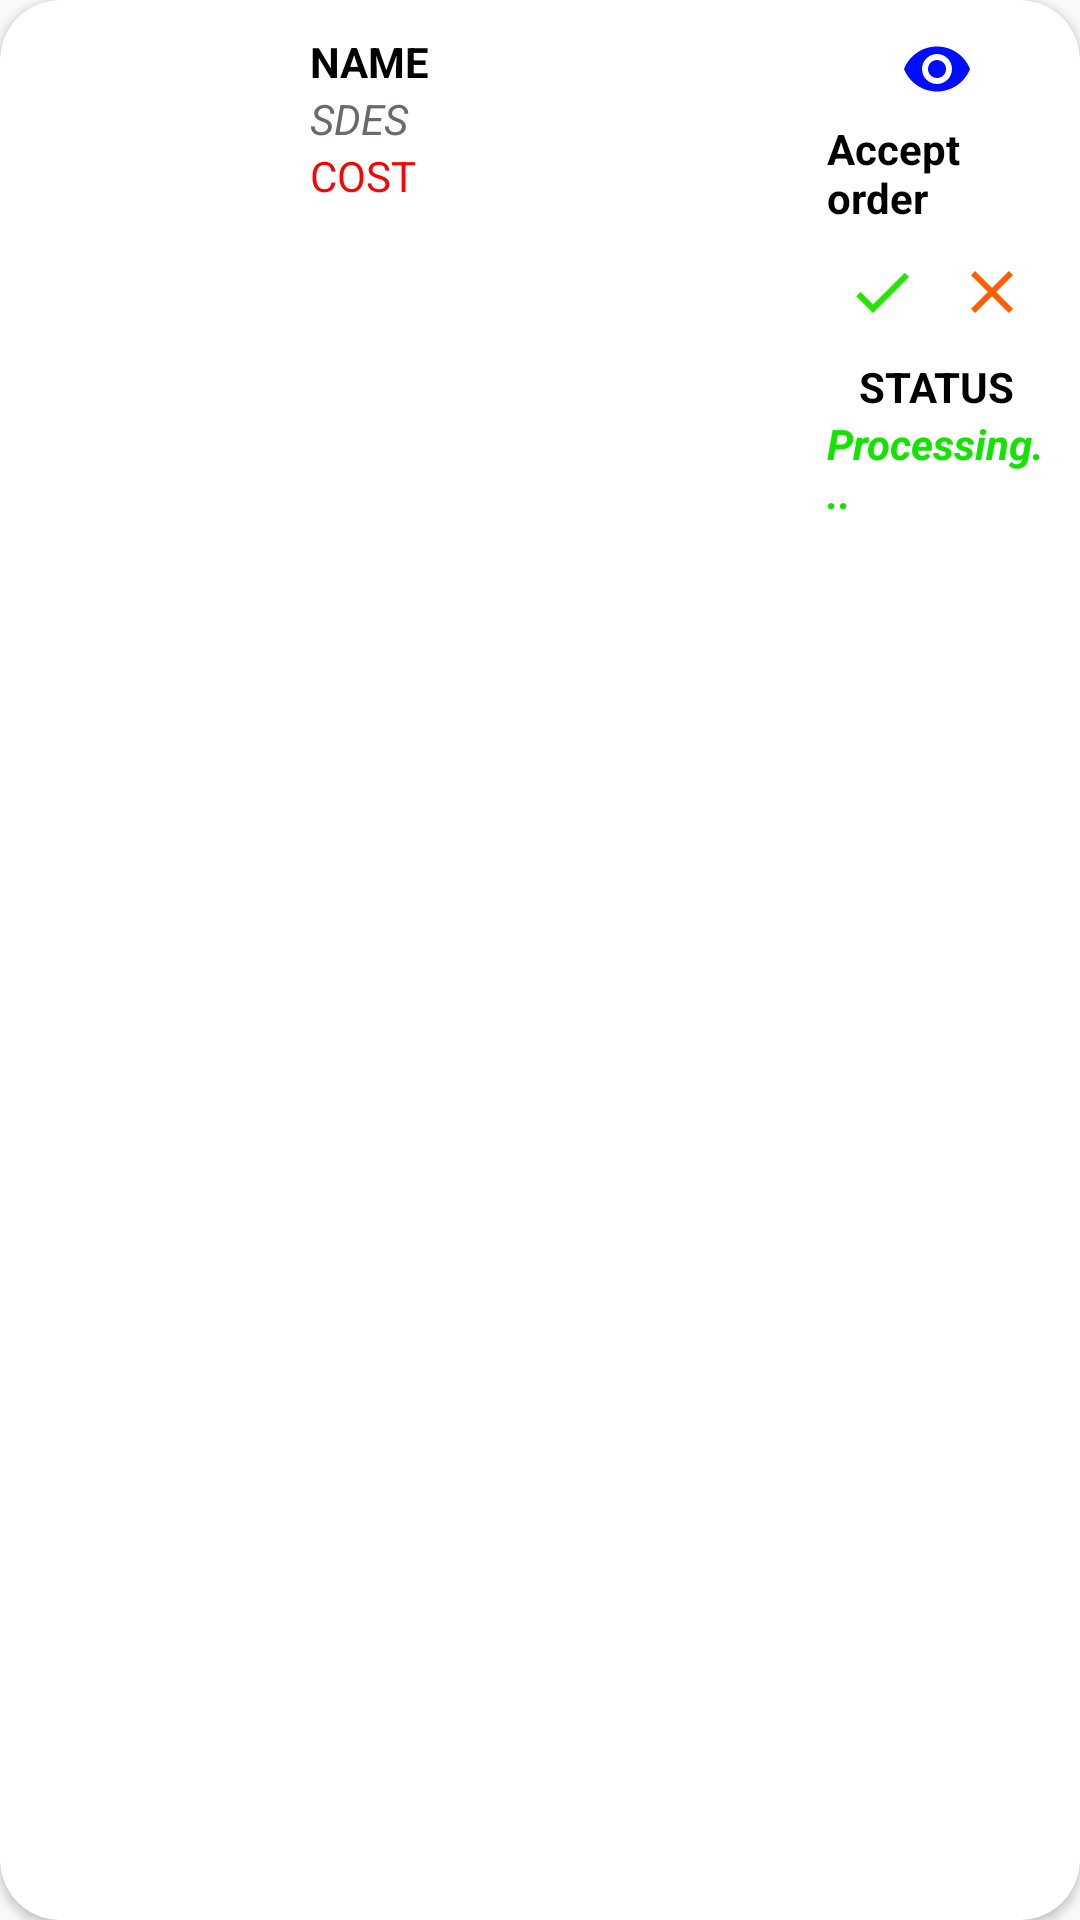

Icons on this 1080w x 1920h Android screen, each with the point to tap as point (x, y):
check: point (882, 293)
close: point (992, 292)
